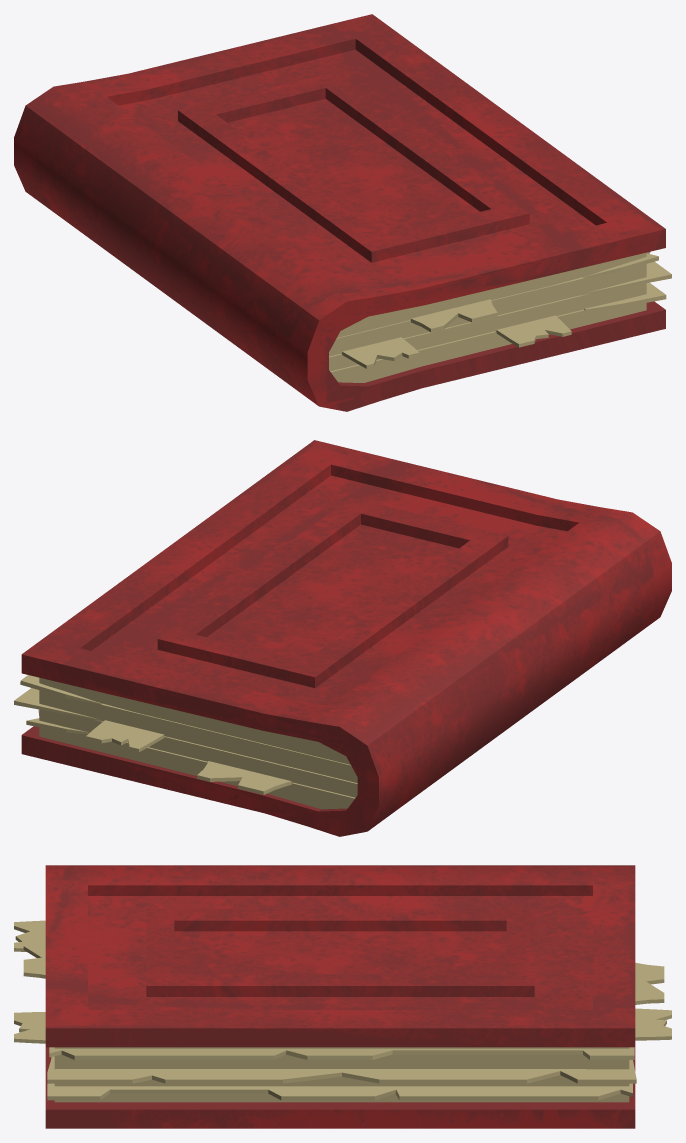
Rendered from book_red_2.fbx.
3 renders of one model, top to bottom at view 1: azimuth 30°, elevation 25°; view 2: azimuth 150°, elevation 25°; view 3: azimuth 270°, elevation 25°, orthographic.
Visible parts, largest first — view 1: Cube.027; view 2: Cube.027; view 3: Cube.027.
Boxes of the visible parts, left/top/right/bottom form: Cube.027: left=14, top=14, right=671, bottom=411; Cube.027: left=14, top=440, right=671, bottom=836; Cube.027: left=14, top=865, right=671, bottom=1128.
Bounding box in the file's own units: 220 × 63.43 × 341.
